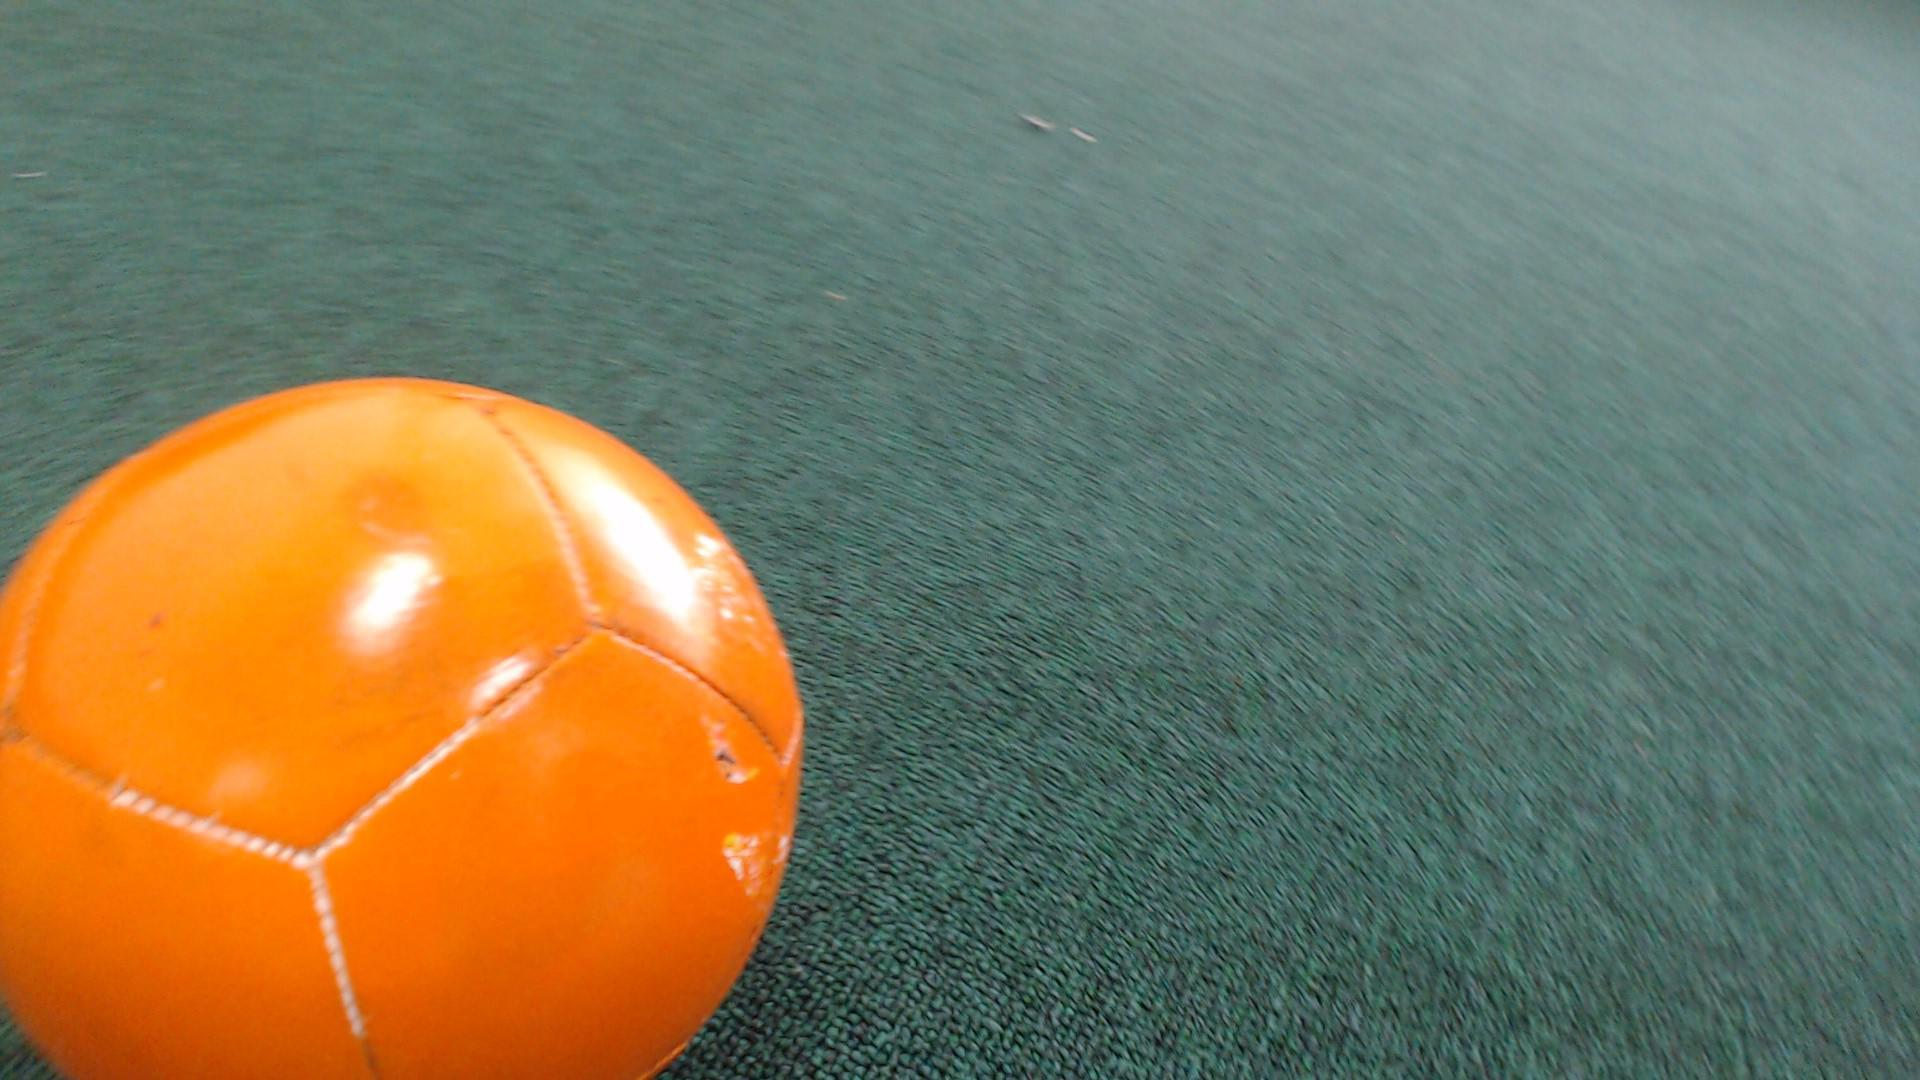bola: (0, 349, 851, 1080)
